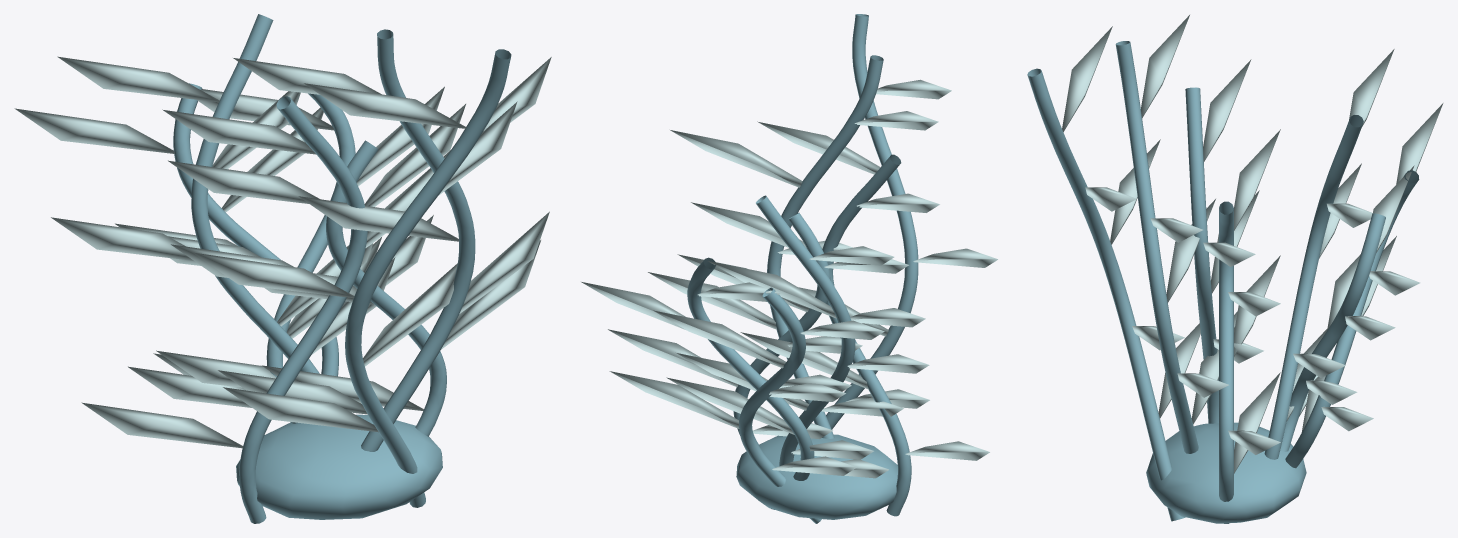
The model's file is bio_aquatic_frond_01_far.glb.
3 renders of one model, left to right at view 1: azimuth 30°, elevation 25°; view 2: azimuth 150°, elevation 25°; view 3: azimuth 270°, elevation 25°, orthographic. The views are drawn at different scales.
Visible parts, largest first — view 1: Holdfast, Ruffled aquatic blade.010, Ruffled aquatic blade.025, Ruffled aquatic blade.020, Ruffled aquatic blade.005, Flexible stipe.002, Ruffled aquatic blade, Flexible stipe.004, Flexible stipe.005, Ruffled aquatic blade.015, Ruffled aquatic blade.030, Flexible stipe.001 (+3 smaller); view 2: Holdfast, Ruffled aquatic blade.030, Ruffled aquatic blade.005, Ruffled aquatic blade.020, Ruffled aquatic blade.025, Ruffled aquatic blade.015, Flexible stipe.002, Ruffled aquatic blade.010, Flexible stipe.004, Ruffled aquatic blade, Flexible stipe.005, Flexible stipe.001 (+3 smaller); view 3: Holdfast, Flexible stipe.002, Flexible stipe.005, Flexible stipe.001, Ruffled aquatic blade, Ruffled aquatic blade.025, Ruffled aquatic blade.010, Flexible stipe.004, Flexible stipe, Ruffled aquatic blade.005, Ruffled aquatic blade.030, Flexible stipe.003 (+3 smaller).
Boxes of the visible parts, x1,y1,x2,y2 form: Holdfast: (236, 414, 442, 519); Ruffled aquatic blade.010: (192, 83, 517, 432); Ruffled aquatic blade.025: (218, 57, 551, 414); Ruffled aquatic blade.020: (81, 104, 465, 448); Ruffled aquatic blade.005: (51, 56, 373, 387); Flexible stipe.002: (345, 49, 511, 507); Ruffled aquatic blade: (168, 150, 540, 410); Flexible stipe.004: (239, 96, 367, 523); Flexible stipe.005: (361, 29, 475, 451); Ruffled aquatic blade.015: (128, 86, 444, 407); Ruffled aquatic blade.030: (14, 107, 433, 375); Flexible stipe.001: (191, 14, 319, 373); Holdfast: (736, 434, 897, 519); Ruffled aquatic blade.030: (609, 310, 884, 475); Ruffled aquatic blade.005: (676, 246, 929, 459); Ruffled aquatic blade.020: (691, 193, 989, 460); Ruffled aquatic blade.025: (648, 111, 938, 416); Ruffled aquatic blade.015: (581, 282, 888, 478); Flexible stipe.002: (826, 14, 918, 429); Ruffled aquatic blade.010: (757, 79, 997, 408); Flexible stipe.004: (822, 154, 911, 516); Ruffled aquatic blade: (608, 254, 908, 439); Flexible stipe.005: (767, 55, 883, 438); Flexible stipe.001: (756, 195, 855, 466); Holdfast: (1146, 422, 1306, 523); Flexible stipe.002: (1027, 68, 1185, 521); Flexible stipe.005: (1115, 41, 1198, 453); Flexible stipe.001: (1264, 115, 1363, 459); Ruffled aquatic blade: (1228, 129, 1280, 473); Ruffled aquatic blade.025: (1141, 15, 1234, 424); Ruffled aquatic blade.010: (1062, 26, 1200, 418); Flexible stipe.004: (1185, 87, 1218, 423); Flexible stipe: (1219, 201, 1233, 523); Ruffled aquatic blade.005: (1286, 49, 1394, 421); Ruffled aquatic blade.030: (1301, 103, 1443, 432); Flexible stipe.003: (1280, 213, 1385, 451).
Size of the model in its own units: 1.79 by 1.89 by 1.56.
